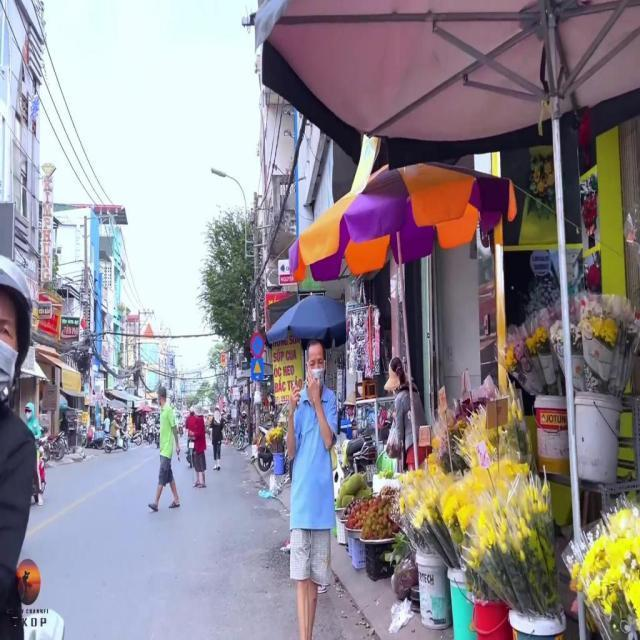131a-cam-do-xe: (250, 334, 264, 356)
442-cho: (251, 358, 265, 382)
